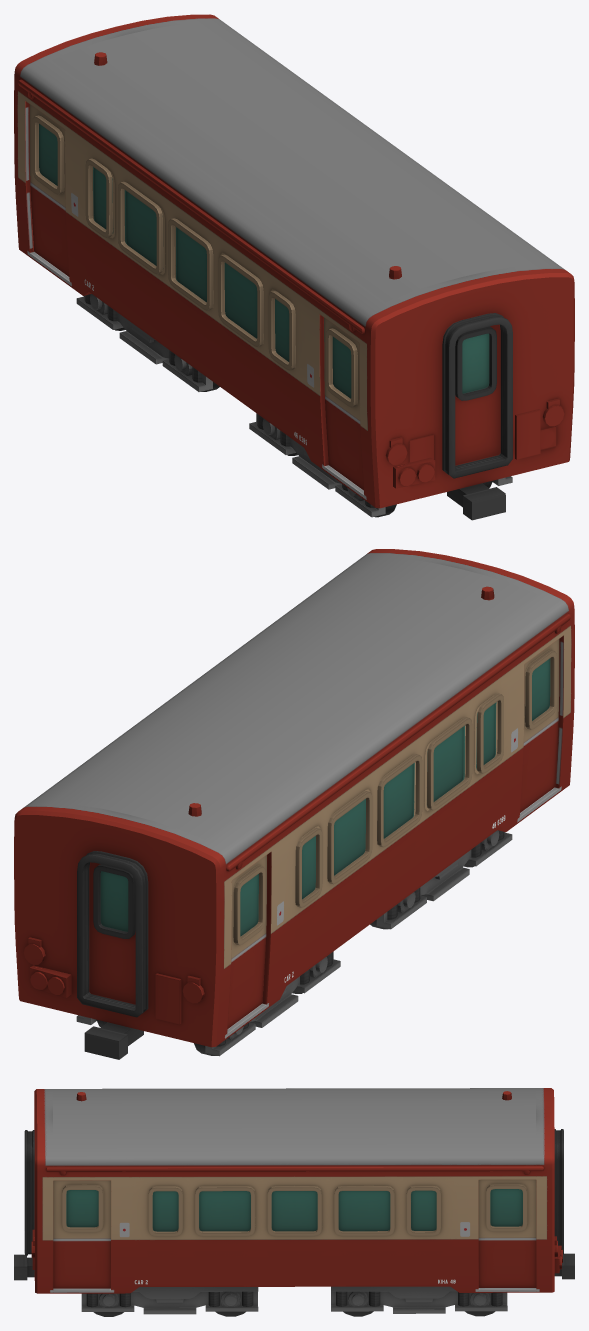
Rendered from boghi.fbx.
3 renders of one model, top to bottom at view 1: azimuth 30°, elevation 25°; view 2: azimuth 150°, elevation 25°; view 3: azimuth 270°, elevation 25°, orthographic. The views are drawn at different scales.
Visible parts, largest first — view 1: boghi; view 2: boghi; view 3: boghi.
Part boxes in pixels (x1,y1,x2,y2): boghi: (14,14,574,520); boghi: (14,549,574,1059); boghi: (14,1088,574,1316).
Size of the model in its own units: 2671 by 3087 by 8357.
2 materials, 2 textured.
